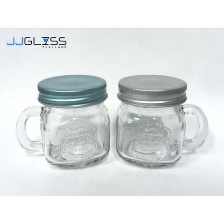bottle: (114, 72, 217, 174), (11, 70, 112, 170)
